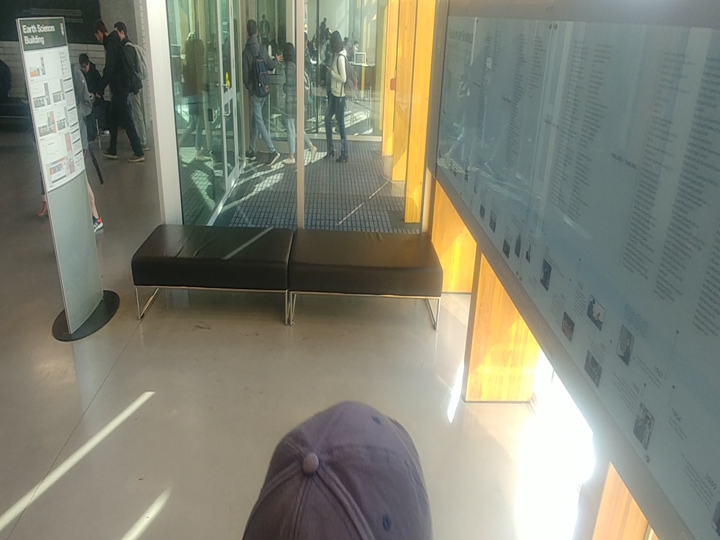face: (85, 16, 115, 46), (325, 27, 351, 61), (242, 15, 266, 45), (279, 38, 299, 66), (75, 49, 94, 77)
human: (83, 13, 147, 165), (236, 10, 279, 168), (317, 26, 362, 166), (279, 32, 297, 169)
